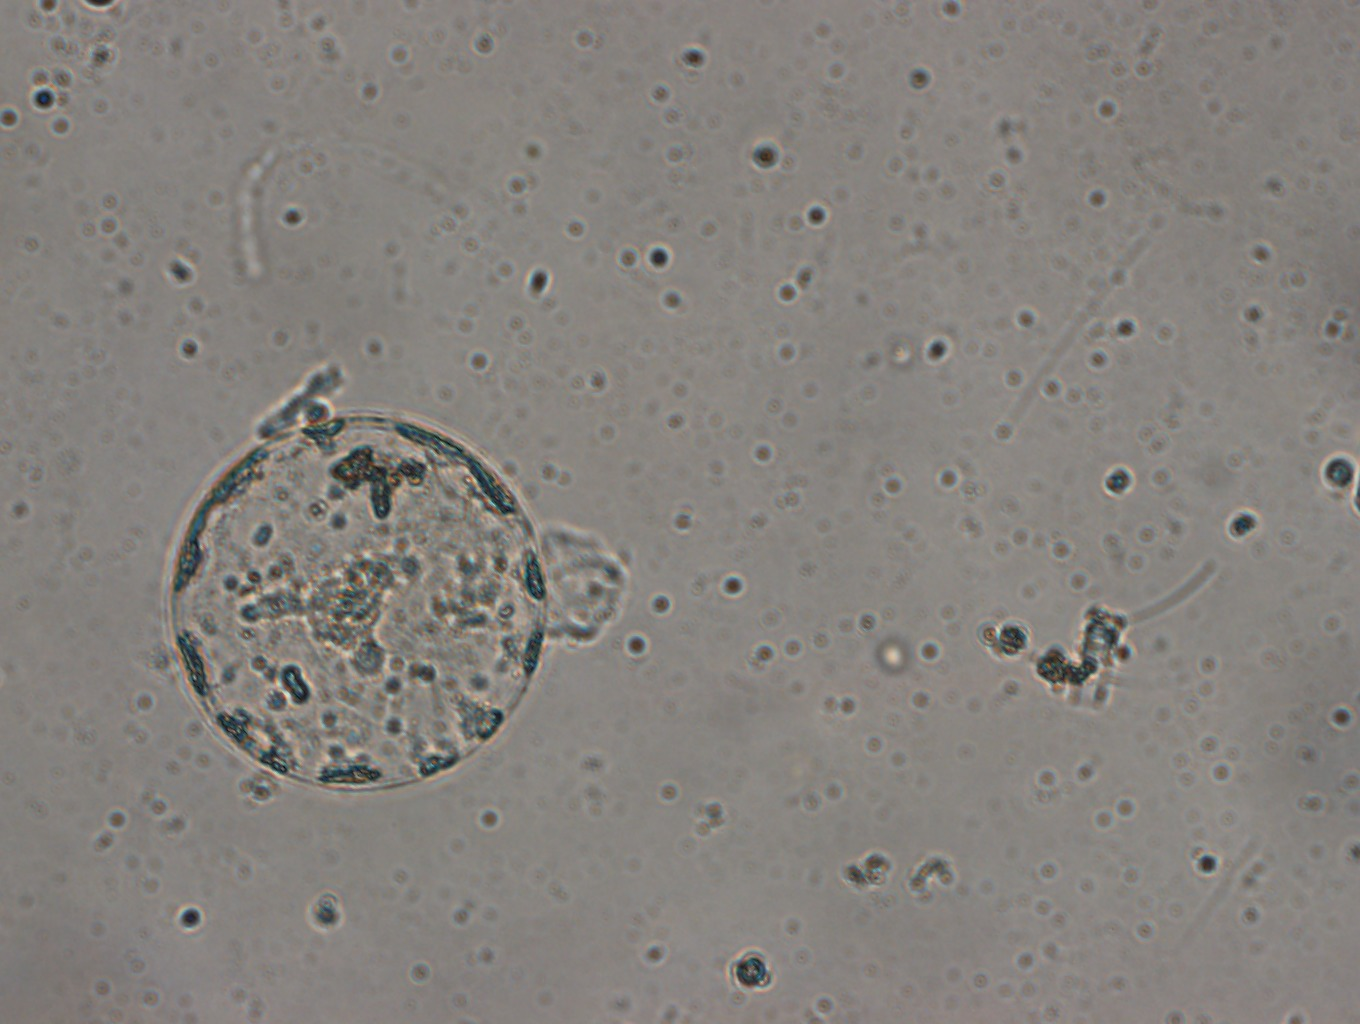coscinodiscus: (164, 411, 549, 795)
